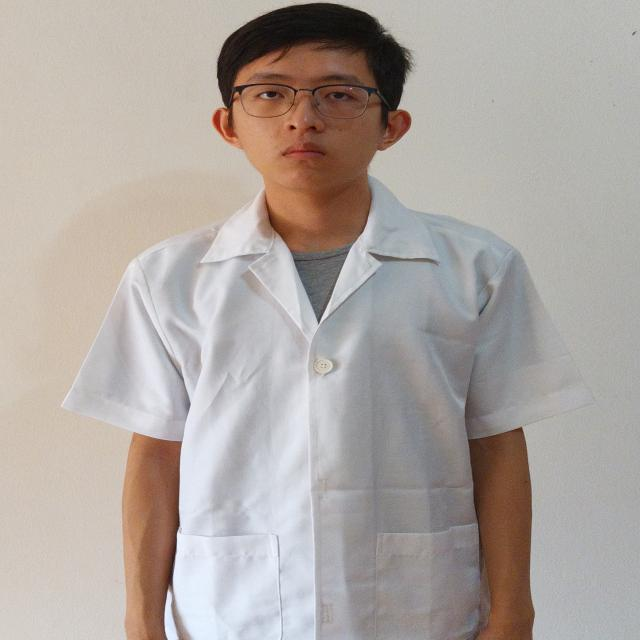person_with_labcoat: (64, 4, 591, 640)
